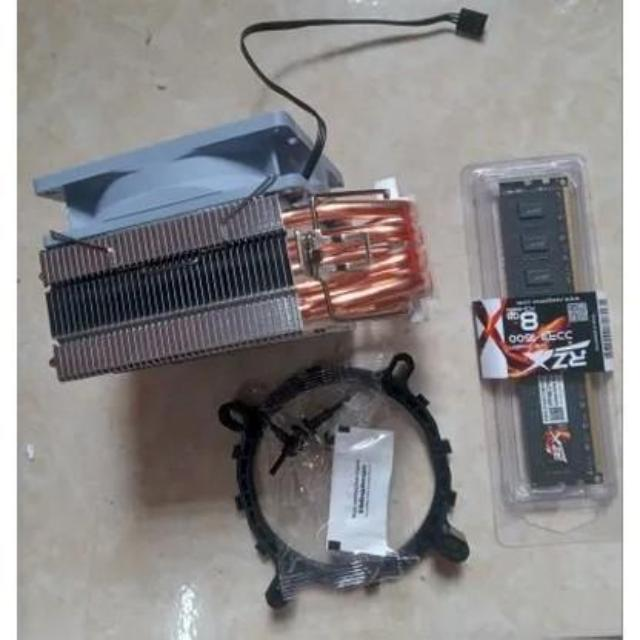CPU_Fan: (25, 119, 430, 390)
RAM: (493, 172, 605, 494)
